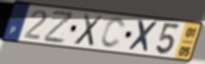2: (22, 9, 48, 42)
5: (155, 21, 182, 57)
C: (99, 17, 127, 50)
X: (126, 19, 160, 55), (72, 13, 104, 48)
Z: (42, 10, 76, 45)
